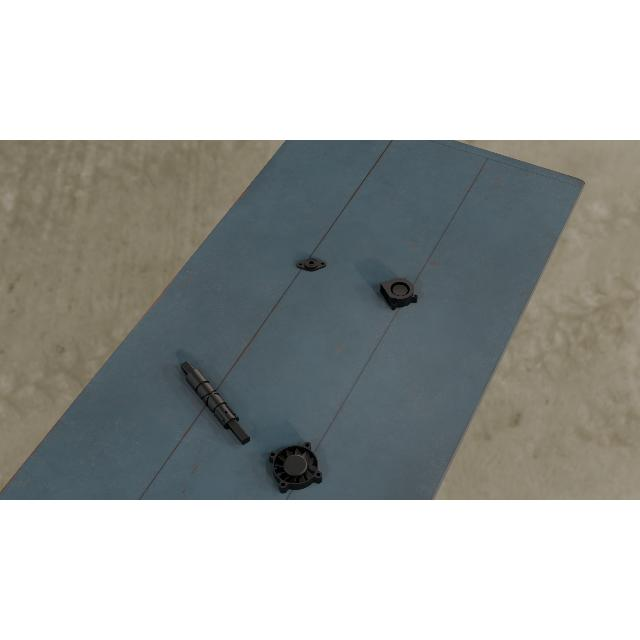Pieza1: (176, 356, 254, 450)
Pieza2: (298, 256, 326, 272)
Pieza3: (380, 274, 420, 312)
Pieza4: (268, 440, 324, 496)
